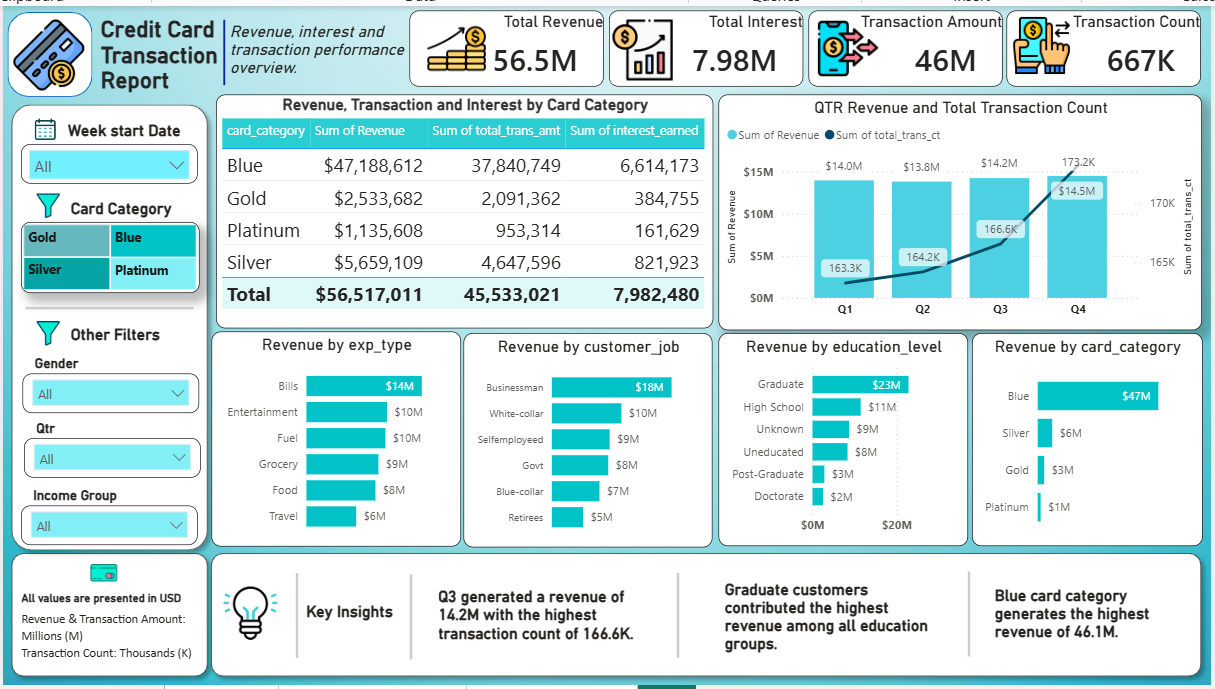

Layout of this report page (visuals, bound fields, positions):
{"tool":"powerbi","page":{"name":"cc transaction_r","canvas":[1280,720],"ordinal":0},"visuals":[{"type":"textbox","box":[68,198.2,143.4,36.8],"z":0,"group":"g7"},{"type":"textbox","box":[68,332.4,143.4,36.8],"z":0,"group":"g8"},{"type":"shape","box":[0,571.7,226.1,148.9],"z":0},{"type":"image","box":[29.4,198.2,38.6,25.7],"z":1000,"group":"g7"},{"type":"image","box":[29.4,334.5,38.6,25.7],"z":1000,"group":"g8"},{"type":"shape","box":[211.4,571.1,1068,148.9],"z":1000},{"type":"shape","box":[0,95.6,226.1,490.8],"z":2000},{"type":"lineStackedColumnComboChart","title":"QTR Revenue and Total Transaction Count","fields":{"Category":["public cc_detail.qtr"],"Y":["Sum(public cc_detail.revenue)"],"Y2":["Sum(public cc_detail.total_trans_ct)"]},"box":[759.2,93.7,512.9,250],"z":3000},{"type":"textbox","box":[99.3,5.5,143.4,91.9],"z":4000},{"type":"barChart","title":"Revenue by exp_type","fields":{"Y":["Sum(public cc_detail.revenue)"],"Category":["public cc_detail.exp_type"]},"box":[220.6,345.6,264.7,227.9],"z":5000},{"type":"barChart","title":"Revenue by education_level","fields":{"Y":["Sum(public cc_detail.revenue)"],"Category":["public cust_detail.education_level"]},"box":[759.2,347.4,264.7,226.1],"z":6000},{"type":"barChart","title":"Revenue by card_category","fields":{"Y":["Sum(public cc_detail.revenue)"],"Category":["public cc_detail.card_category"]},"box":[1027.6,347.4,244.5,226.1],"z":7000},{"type":"cardVisual","title":"Total Revenue","fields":{"Data":["public cc_detail.RevenueKPI"]},"box":[430.3,5.5,205.9,80.9],"z":8000,"group":"g6"},{"type":"barChart","title":"Revenue by customer_job","fields":{"Y":["Sum(public cc_detail.revenue)"],"Category":["public cust_detail.customer_job"]},"box":[489,347.4,264,227],"z":8000},{"type":"cardVisual","title":"Total Interest","fields":{"Data":["public cc_detail.InterestKPI"]},"box":[641.1,5.5,205.9,80.9],"z":9000,"group":"g4"},{"type":"tableEx","title":"Revenue, Transaction and Interest by Card Category","fields":{"Values":["public cc_detail.card_category","Sum(public cc_detail.revenue)","Sum(public cc_detail.total_trans_amt)","Sum(public cc_detail.interest_earned)"]},"box":[226.1,93.7,527.6,248.2],"z":9000},{"type":"cardVisual","title":"Transaction Count","fields":{"Data":["Sum(public cc_detail.total_trans_ct)"]},"box":[1063.9,5.5,205.9,80.9],"z":10000,"group":"g2"},{"type":"slicer","fields":{"Values":["public cc_detail.week_start_date"]},"box":[18.4,147.1,187.5,42.3],"z":10000},{"type":"group","id":"g1","title":"Group 1","box":[853,5.5,205.9,80.9],"z":11000,"group":"g5"},{"type":"cardVisual","title":"Transaction Amount","fields":{"Data":["Sum(public cc_detail.total_trans_amt)"]},"box":[853,5.5,205.9,80.9],"z":11000,"group":"g1"},{"type":"treemap","fields":{"Group":["public cc_detail.card_category"],"Values":["Avg(public cc_detail.client_num)"]},"box":[18.4,229.8,189.3,75.4],"z":11000},{"type":"group","id":"g2","title":"Group 2","box":[1063.9,5.5,205.9,80.9],"z":12000,"group":"g5"},{"type":"group","id":"g3","title":"Group 6","box":[1.9,7,93.7,90.1],"z":12000},{"type":"group","id":"g4","title":"Group 3","box":[641.1,5.5,205.9,80.9],"z":13000,"group":"g5"},{"type":"textbox","box":[236,11,198.5,68],"z":13000},{"type":"group","id":"g5","title":"Group 7","box":[430.3,5.5,839.5,80.9],"z":14000},{"type":"group","id":"g6","title":"Group 4","box":[430.3,5.5,205.9,80.9],"z":14000,"group":"g5"},{"type":"shape","box":[182,14.7,106.6,69.9],"z":15000},{"type":"textbox","box":[64.3,115.8,143.4,36.8],"z":16000},{"type":"image","box":[1067.6,11,68,64.3],"z":17000,"group":"g2"},{"type":"image","box":[642.9,14.7,68,64.3],"z":17000,"group":"g4"},{"type":"image","box":[25.7,117.6,38.6,25.7],"z":17000},{"type":"image","box":[860.4,12.9,68,64.3],"z":17001,"group":"g1"},{"type":"image","box":[446.8,12.9,68,64.3],"z":17002,"group":"g6"},{"type":"shape","box":[5.6,7,90.1,90.1],"z":18000,"group":"g3"},{"type":"textbox","box":[14.7,634.2,194.9,64.3],"z":18000},{"type":"image","box":[1.9,14.4,93.7,75.4],"z":18500,"group":"g3"},{"type":"textbox","box":[14.7,612.1,200.4,33.1],"z":19000},{"type":"textbox","box":[27.6,364,143.4,36.8],"z":19001,"group":"g9"},{"type":"textbox","box":[29.3,432.1,143.4,36.8],"z":19001,"group":"g10"},{"type":"textbox","box":[27.1,504.1,143.4,36.8],"z":19001,"group":"g11"},{"type":"slicer","fields":{"Values":["public cust_detail.gender"]},"box":[20.2,389.7,187.5,42.3],"z":19007,"group":"g9"},{"type":"slicer","fields":{"Values":["public cc_detail.qtr"]},"box":[21.9,457.8,187.5,42.3],"z":19007,"group":"g10"},{"type":"slicer","fields":{"Values":["public cust_detail.income_group"]},"box":[19.7,529.8,187.5,42.3],"z":19007,"group":"g11"},{"type":"textbox","box":[316.2,626.8,143.4,36.8],"z":20000},{"type":"shape","box":[23.9,297.8,178.3,46],"z":21000},{"type":"group","id":"g7","title":"Group 5","box":[29.4,198.2,182,36.8],"z":22000},{"type":"group","id":"g8","title":"Group 8","box":[29.4,332.4,182,36.8],"z":23000},{"type":"group","id":"g9","title":"Group 9","box":[20.2,364,187.5,68],"z":24000},{"type":"group","id":"g10","title":"Group 9","box":[21.9,432.1,187.5,68],"z":25000},{"type":"group","id":"g11","title":"Group 9","box":[19.7,504.1,187.5,68],"z":26000},{"type":"image","box":[88.2,584.6,38.6,29.4],"z":27000},{"type":"image","box":[220.6,615.8,82.7,57],"z":28000},{"type":"shape","box":[270.2,601.1,82.7,90.1],"z":29000},{"type":"shape","box":[391.5,602.9,82.7,90.1],"z":30000},{"type":"shape","box":[674.6,601.1,82.7,90.1],"z":31000},{"type":"shape","box":[983.4,599.3,82.7,90.1],"z":32000},{"type":"textbox","box":[1045.9,608.4,193,69.9],"z":33000},{"type":"textbox","box":[455.9,610.3,235.3,88.2],"z":34000},{"type":"textbox","box":[761,602.9,229.8,95.6],"z":35000}]}

Visuals, with their boxes in screenshot pixels (x1, y1, x2, y2), scaled from the page's 1280x720 canvas onto the 1215x689 screenshot:
textbox: crop(65, 190, 201, 225)
textbox: crop(65, 318, 201, 353)
shape: crop(0, 547, 215, 688)
image: crop(28, 190, 65, 214)
image: crop(28, 320, 65, 345)
shape: crop(201, 547, 1214, 688)
shape: crop(0, 91, 215, 561)
"QTR Revenue and Total Transaction Count" lineStackedColumnComboChart: crop(721, 90, 1208, 329)
textbox: crop(94, 5, 230, 93)
"Revenue by exp_type" barChart: crop(209, 331, 461, 549)
"Revenue by education_level" barChart: crop(721, 332, 972, 549)
"Revenue by card_category" barChart: crop(975, 332, 1208, 549)
"Total Revenue" cardVisual: crop(408, 5, 604, 83)
"Revenue by customer_job" barChart: crop(464, 332, 715, 550)
"Total Interest" cardVisual: crop(609, 5, 804, 83)
"Revenue, Transaction and Interest by Card Category" tableEx: crop(215, 90, 715, 327)
"Transaction Count" cardVisual: crop(1010, 5, 1205, 83)
slicer - public cc_detail.week_start_date: crop(17, 141, 195, 181)
"Group 1" group: crop(810, 5, 1005, 83)
"Transaction Amount" cardVisual: crop(810, 5, 1005, 83)
treemap - public cc_detail.card_category x Avg(public cc_detail.client_num): crop(17, 220, 197, 292)
"Group 2" group: crop(1010, 5, 1205, 83)
"Group 6" group: crop(2, 7, 91, 93)
"Group 3" group: crop(609, 5, 804, 83)
textbox: crop(224, 11, 412, 76)
"Group 7" group: crop(408, 5, 1205, 83)
"Group 4" group: crop(408, 5, 604, 83)
shape: crop(173, 14, 274, 81)
textbox: crop(61, 111, 197, 146)
image: crop(1013, 11, 1078, 72)
image: crop(610, 14, 675, 76)
image: crop(24, 113, 61, 137)
image: crop(817, 12, 881, 74)
image: crop(424, 12, 489, 74)
shape: crop(5, 7, 91, 93)
textbox: crop(14, 607, 199, 668)
image: crop(2, 14, 91, 86)
textbox: crop(14, 586, 204, 617)
textbox: crop(26, 348, 162, 384)
textbox: crop(28, 413, 164, 449)
textbox: crop(26, 482, 162, 518)
slicer - public cust_detail.gender: crop(19, 373, 197, 413)
slicer - public cc_detail.qtr: crop(21, 438, 199, 479)
slicer - public cust_detail.income_group: crop(19, 507, 197, 547)
textbox: crop(300, 600, 436, 635)
shape: crop(23, 285, 192, 329)
"Group 5" group: crop(28, 190, 201, 225)
"Group 8" group: crop(28, 318, 201, 353)
"Group 9" group: crop(19, 348, 197, 413)
"Group 9" group: crop(21, 413, 199, 479)
"Group 9" group: crop(19, 482, 197, 547)
image: crop(84, 559, 120, 588)
image: crop(209, 589, 288, 644)
shape: crop(256, 575, 335, 661)
shape: crop(372, 577, 450, 663)
shape: crop(640, 575, 719, 661)
shape: crop(933, 573, 1012, 660)
textbox: crop(993, 582, 1176, 649)
textbox: crop(433, 584, 656, 668)
textbox: crop(722, 577, 940, 668)
